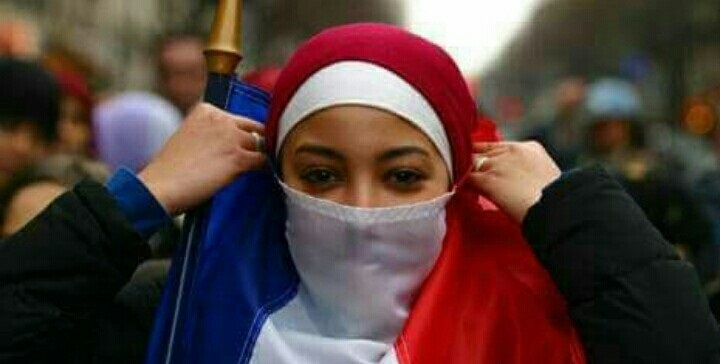face_mask: (282, 87, 448, 298)
